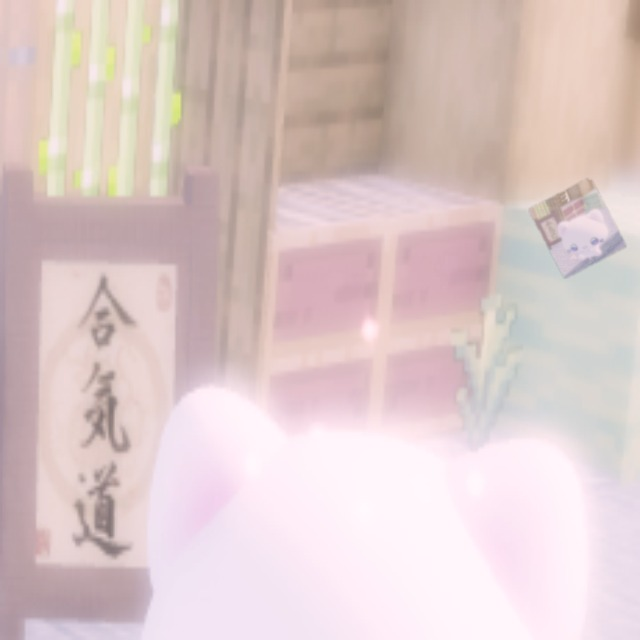urso_branco: (528, 177, 627, 279)
